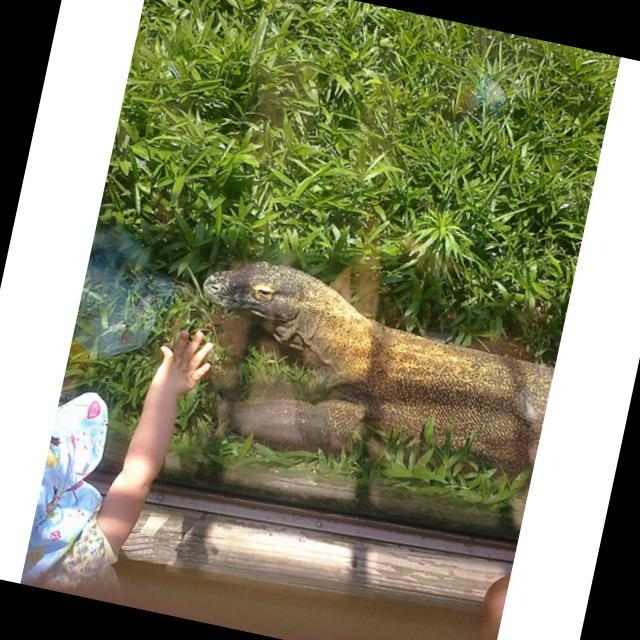KomodoDragon: (177, 248, 564, 491)
